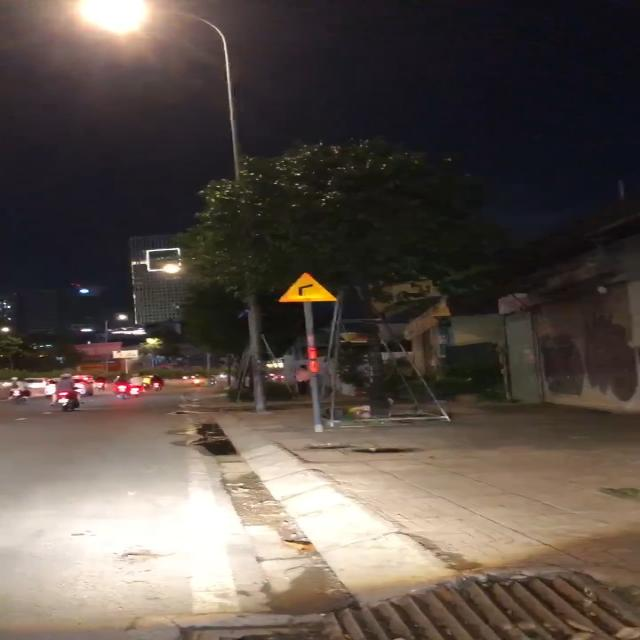Bien bao cho ngoat nguy hiem: (272, 268, 338, 304)
